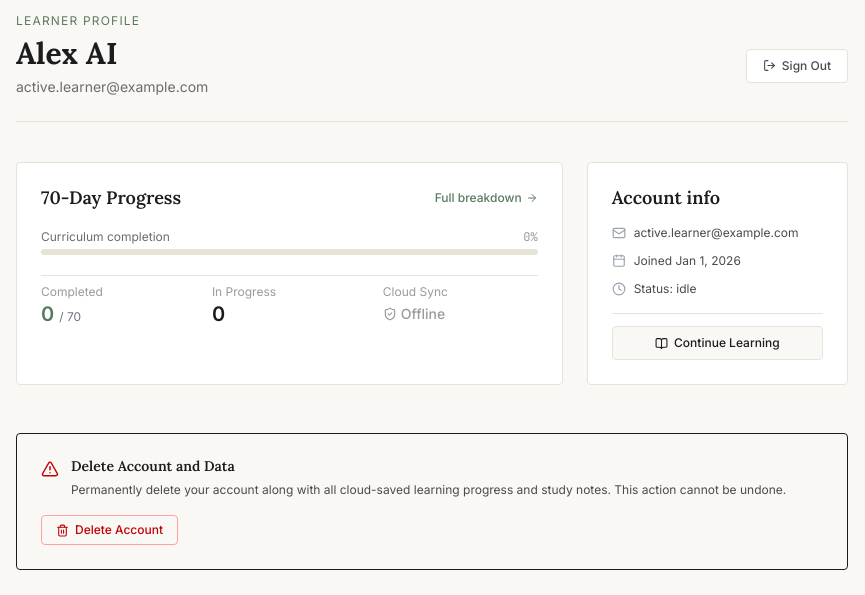
Test case: Authentication Pages & Flows › AccountPage › renders user details and delete account confirmation when authenticated
Expected: the heading "Alex AI" is shown, [16,34,118,72]
Expected: the text "Joined Jan 1, 2026" is shown, [634,253,741,269]
Note: Test delete button confirmation trigger
Click the button "Delete Account". click: (110, 530)
box: [41,515,178,545]
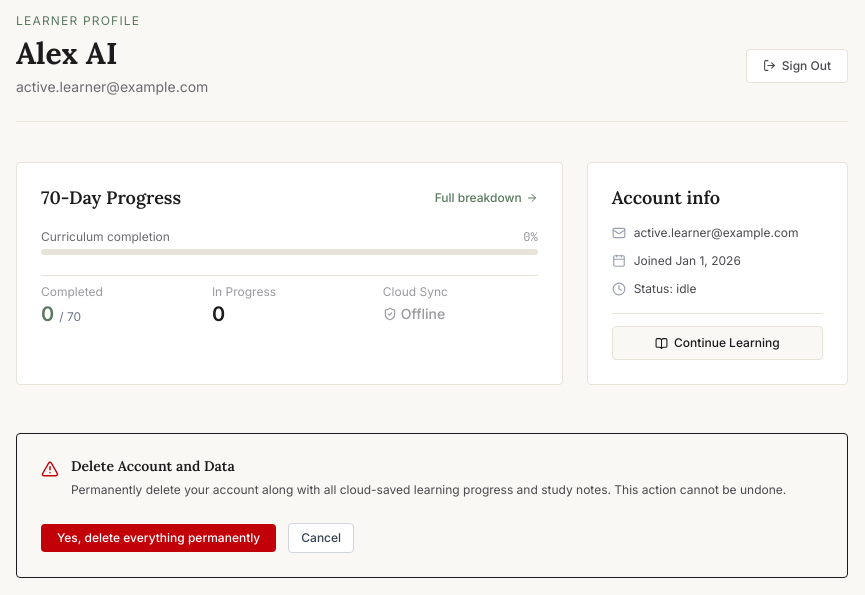
Expected: the button "Yes, delete everything permanently" is shown, [41,524,276,552]
Expected: the button "Cancel" is shown, [288,523,354,553]
